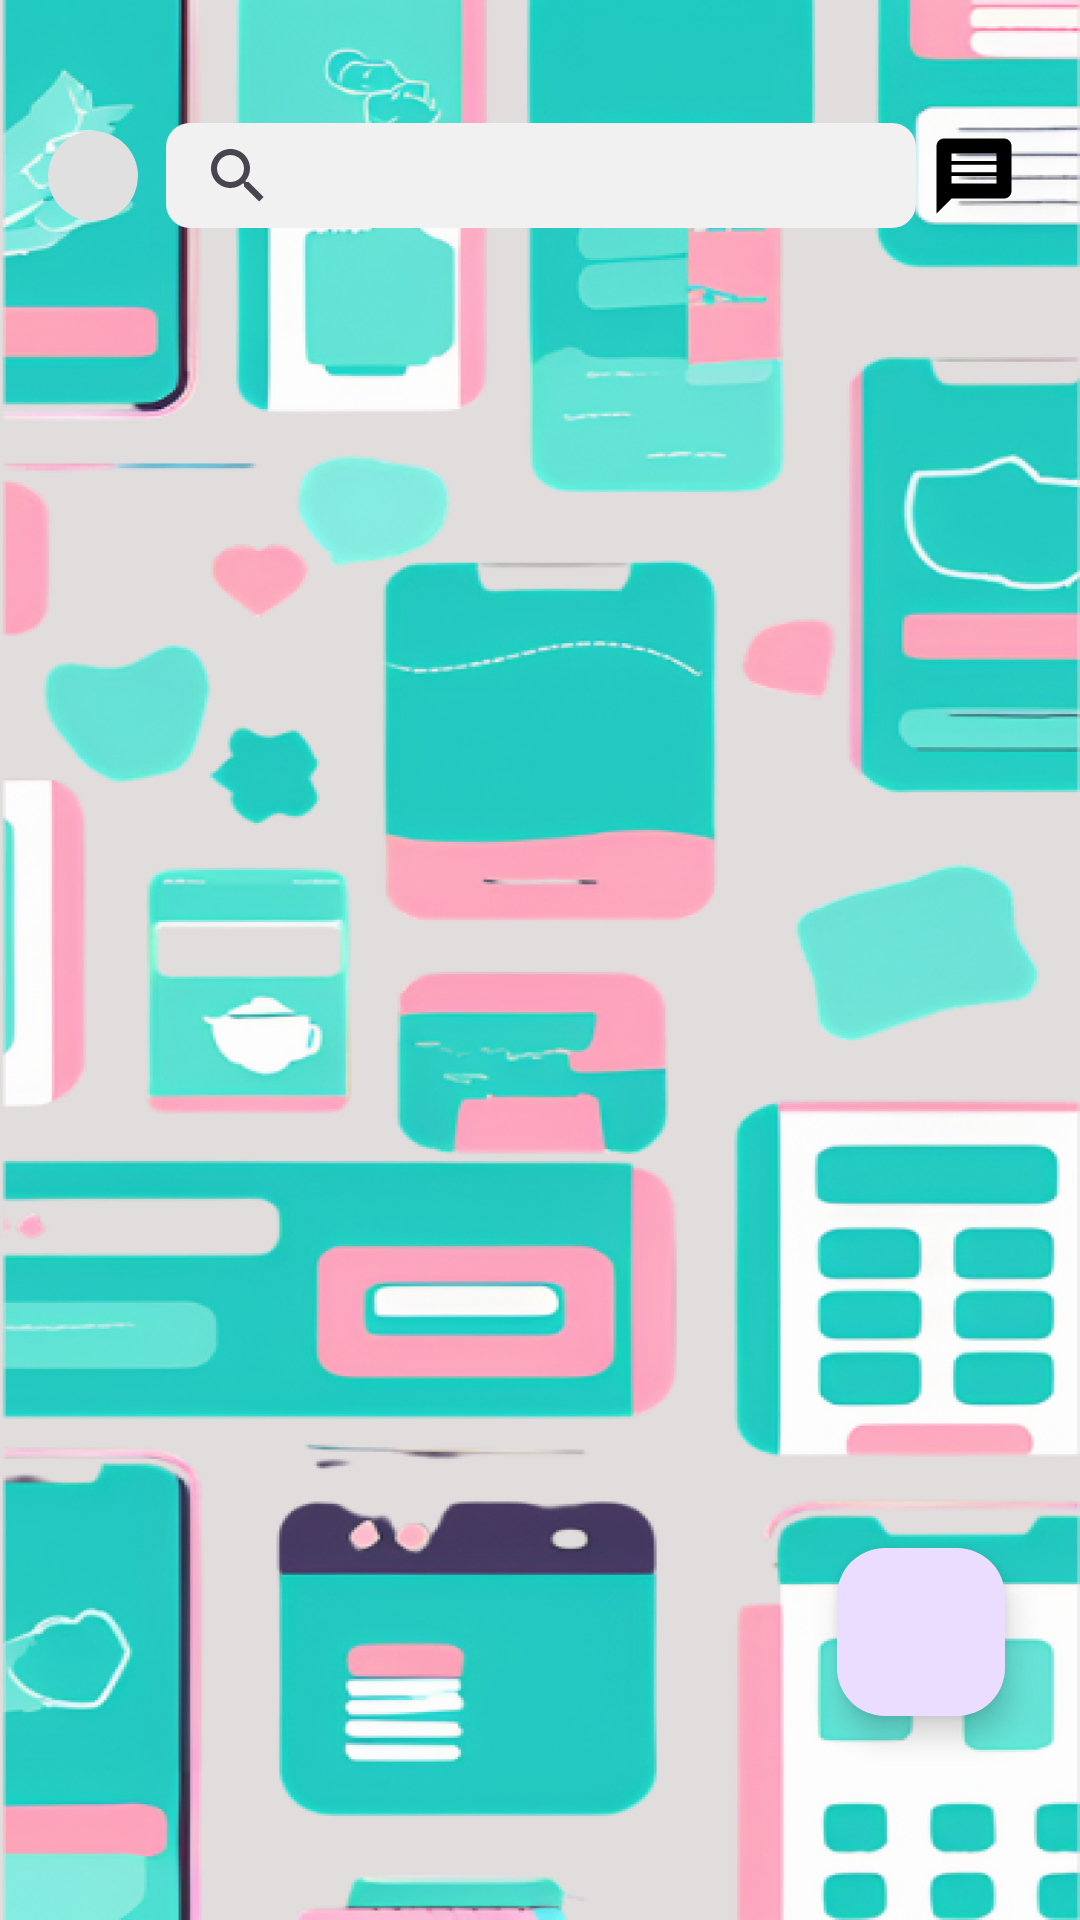

Icons on this 1080 × 1920 Android screen, each with its box as (x1, y1, x2, y2):
message: (929, 131, 1019, 221)
